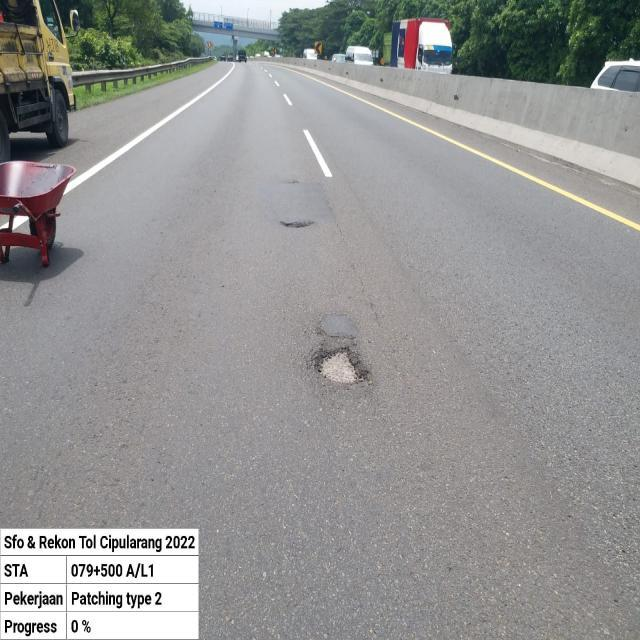Buraco: (311, 344, 374, 388), (276, 220, 319, 230)
